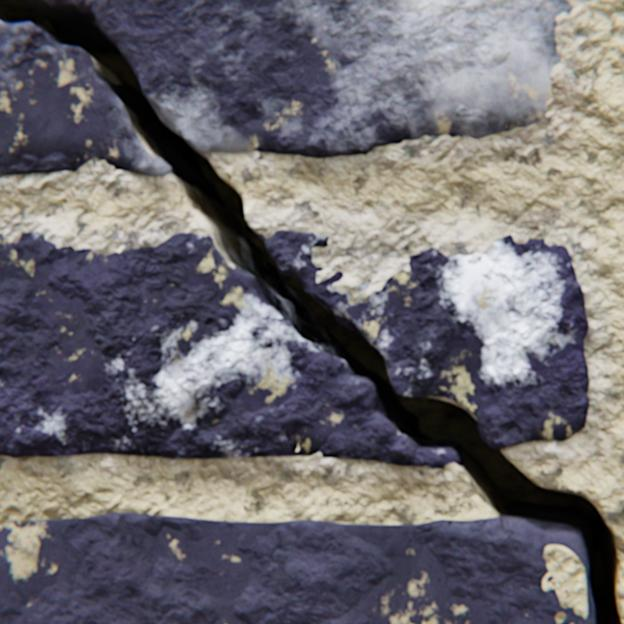brick: (0, 511, 587, 623), (546, 575, 551, 580)
broken_brick: (0, 232, 457, 467), (44, 0, 572, 158), (258, 230, 588, 448), (0, 23, 171, 178), (358, 280, 370, 292)
crack: (0, 0, 623, 623)
